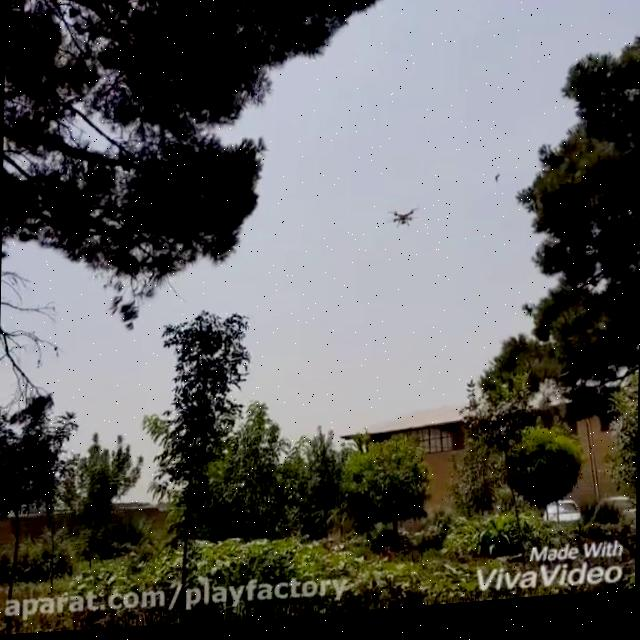drone: (384, 204, 424, 239)
